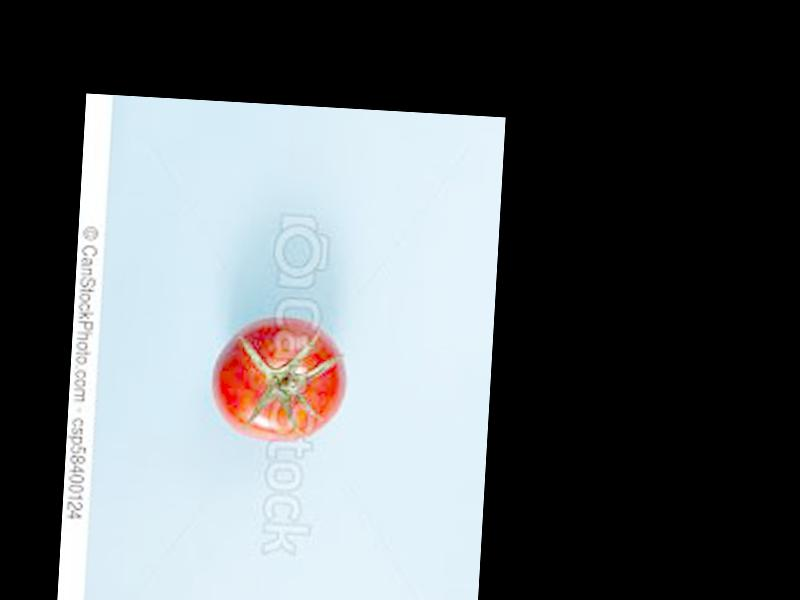Tomato: (206, 316, 348, 443)
